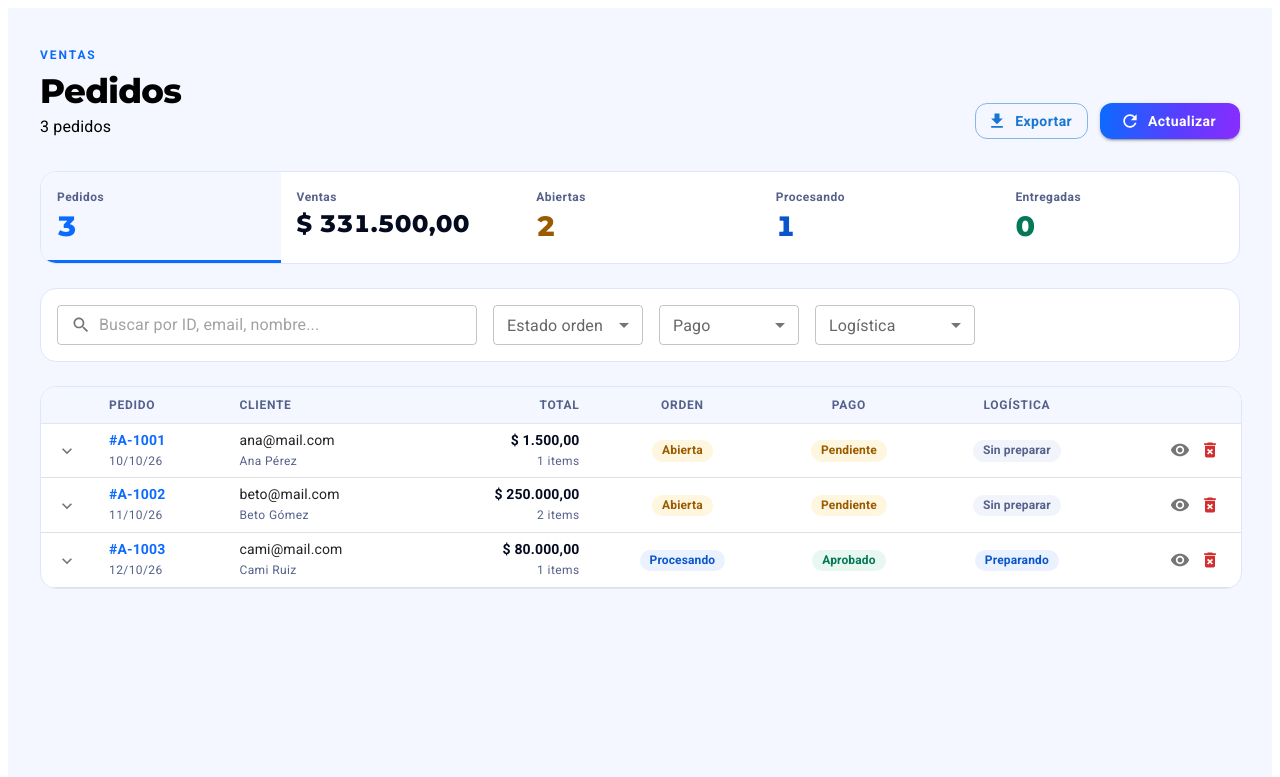
Test: Pedidos · detalle de un pedido › al tocar la fila se abren los productos, el envío y el panel de control
This screenshot has width=1280, height=777.
Click the text "#A-1002".
click(137, 494)  # box 109,486 -> 165,502
(page scrolled)
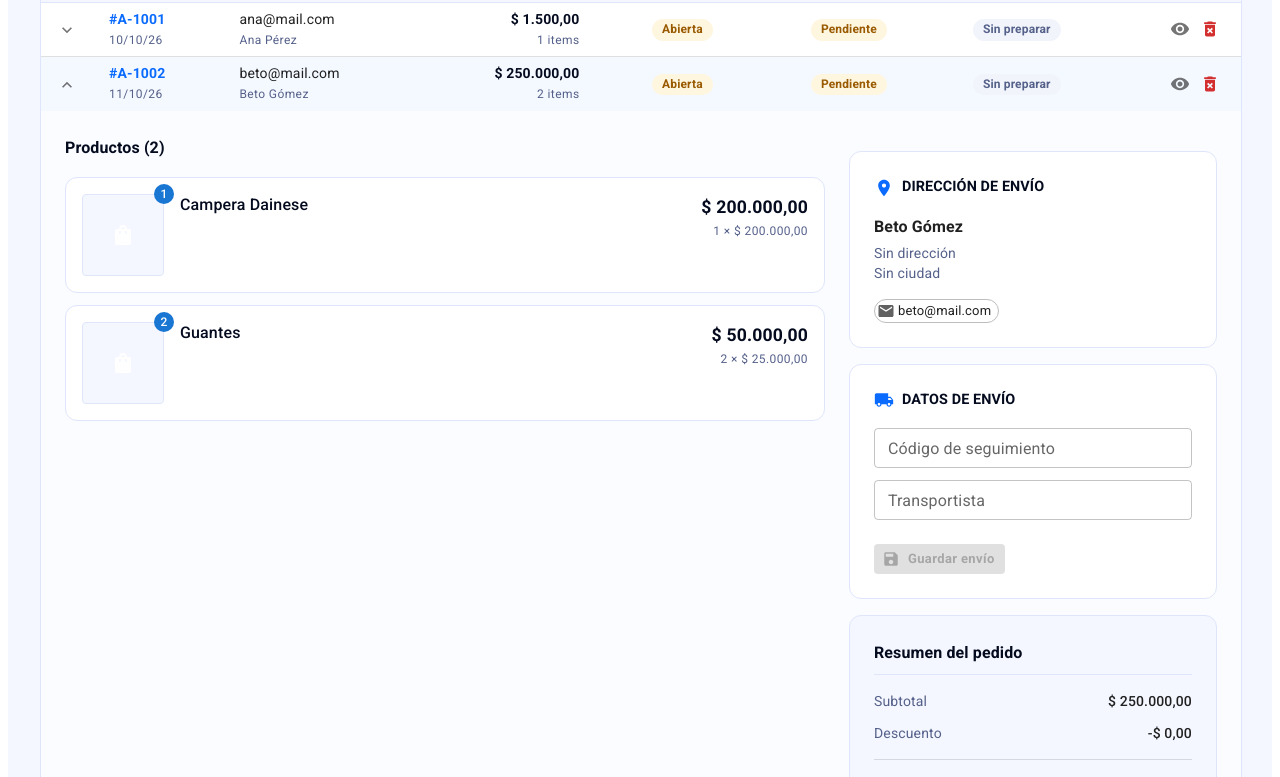
Expected: the heading "Productos (2)" is shown, 65,138 -> 165,157
Expected: the text "Campera Dainese" is shown, 180,195 -> 308,214
Expected: the text "Guantes" is shown, 180,323 -> 240,342
